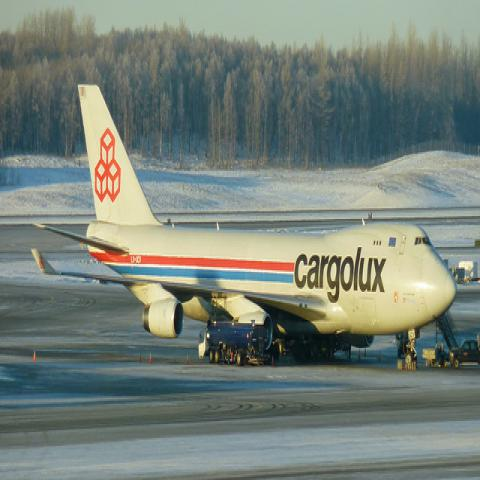car: (448, 334, 479, 370)
